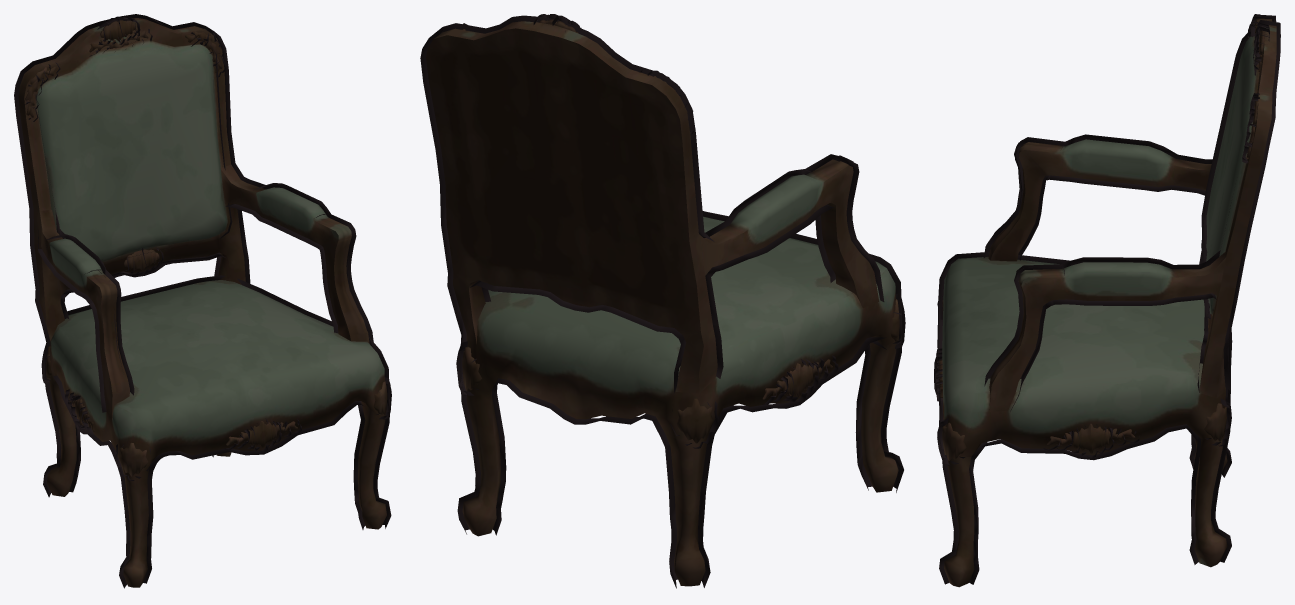
File: SM_Int_GreenChair.fbx
The picture shows the model from 3 angles, left to right: view 1: azimuth 30°, elevation 25°; view 2: azimuth 150°, elevation 25°; view 3: azimuth 270°, elevation 25°; orthographic projection. The views are drawn at different scales.
Visible parts, largest first — view 1: SM_Int_GreenChair; view 2: SM_Int_GreenChair; view 3: SM_Int_GreenChair.
Boxes of the visible parts, x1,y1,x2,y2 form: SM_Int_GreenChair: (14,14,391,588); SM_Int_GreenChair: (420,14,905,588); SM_Int_GreenChair: (934,14,1280,587).
Size of what is drawn, in the model's own units: 0.5563 by 0.8608 by 0.5482.
